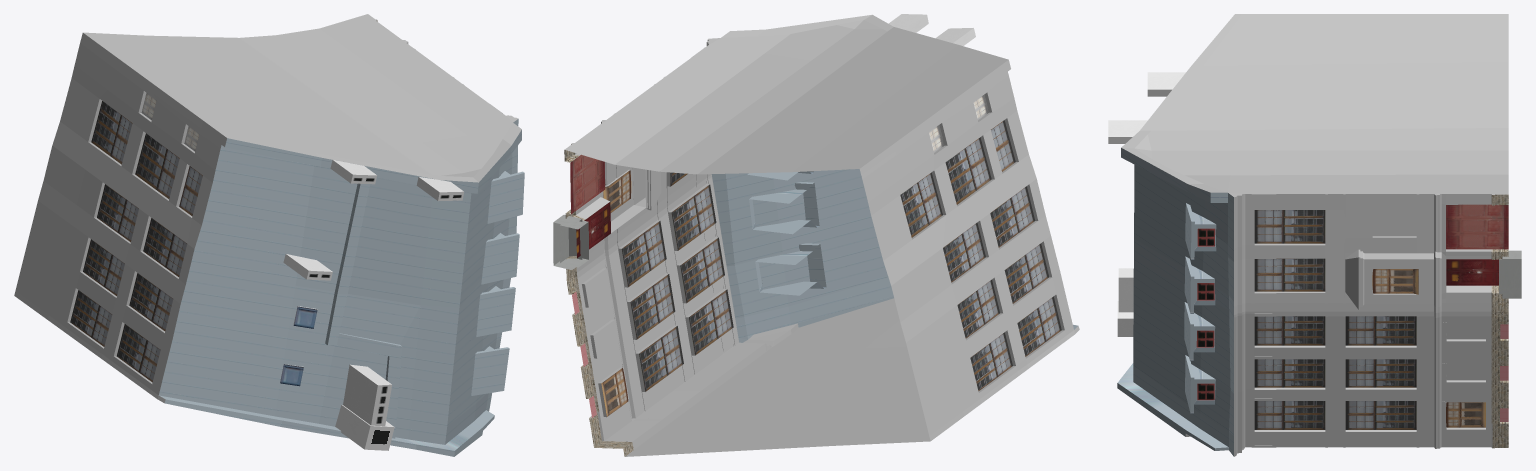
File: Vene_31.obj
The picture shows the model from 3 angles, left to right: view 1: azimuth 30°, elevation 25°; view 2: azimuth 150°, elevation 25°; view 3: azimuth 270°, elevation 25°; orthographic projection. The views are drawn at different scales.
Parts seen in each view (by area): view 1: polySurface1; view 2: polySurface1; view 3: polySurface1.
Boxes of the visible parts, box(x1,y1,x2,y2) form: polySurface1: box(14, 14, 524, 456); polySurface1: box(553, 14, 1079, 456); polySurface1: box(1108, 14, 1521, 456).
Size of the model in its own units: 20.68 by 18.26 by 21.24.
